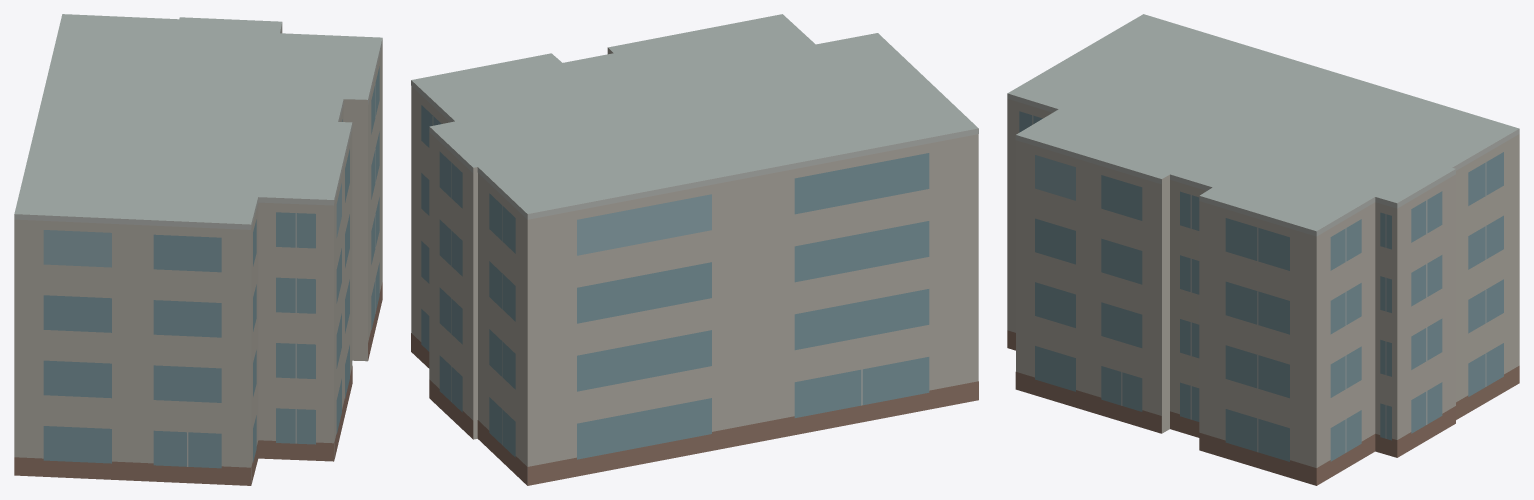
The model's file is survey-upis-32968399.glb.
The picture shows the model from 3 angles, left to right: view 1: azimuth 30°, elevation 25°; view 2: azimuth 150°, elevation 25°; view 3: azimuth 270°, elevation 25°; orthographic projection. The views are drawn at different scales.
Visible parts, largest first — view 1: survey-upis-32968399.tmp; view 2: survey-upis-32968399.tmp; view 3: survey-upis-32968399.tmp.
Part boxes in pixels (box(x1,y1,x2,y2)): survey-upis-32968399.tmp: box(14, 14, 382, 485); survey-upis-32968399.tmp: box(411, 14, 978, 485); survey-upis-32968399.tmp: box(1007, 14, 1519, 485).
Bounding box in the file's own units: 21.42 × 11.7 × 21.34.
